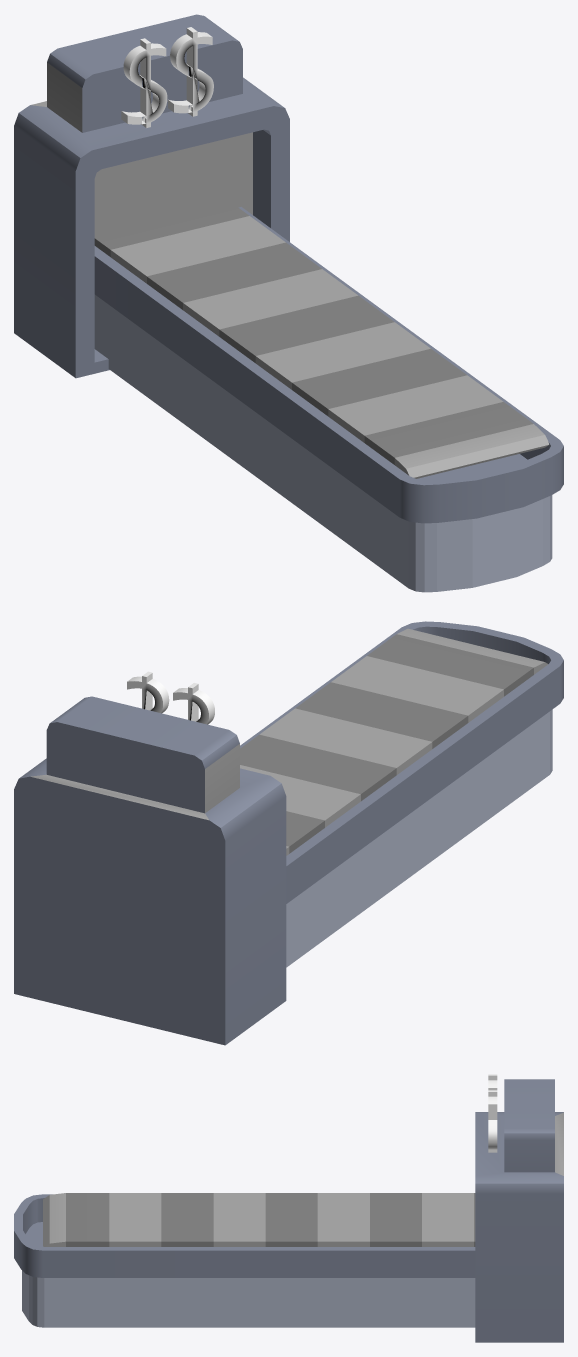
The model's file is CheckOutB.fbx.
The picture shows the model from 3 angles, top to bottom: view 1: azimuth 30°, elevation 25°; view 2: azimuth 150°, elevation 25°; view 3: azimuth 270°, elevation 25°; orthographic projection. The views are drawn at different scales.
Parts seen in each view (by area): view 1: CheckoutBMain, CheckOutBSecondary, ConveyorBelt1, typeMesh2; view 2: CheckOutBSecondary, CheckoutBMain, ConveyorBelt1, typeMesh2; view 3: CheckoutBMain, ConveyorBelt1, CheckOutBSecondary, typeMesh2.
Boxes of the visible parts, <box> form: CheckoutBMain: <box>94,207,563,592</box>; CheckOutBSecondary: <box>14,14,289,378</box>; ConveyorBelt1: <box>94,202,549,478</box>; typeMesh2: <box>121,27,213,127</box>; CheckOutBSecondary: <box>14,696,286,1045</box>; CheckoutBMain: <box>240,621,563,967</box>; ConveyorBelt1: <box>240,628,548,855</box>; typeMesh2: <box>127,671,214,724</box>; CheckoutBMain: <box>14,1194,475,1327</box>; ConveyorBelt1: <box>43,1193,475,1246</box>; CheckOutBSecondary: <box>475,1079,563,1342</box>; typeMesh2: <box>488,1074,497,1152</box>.
Bounding box in the file's own units: 2 × 2.75 × 6.19.
